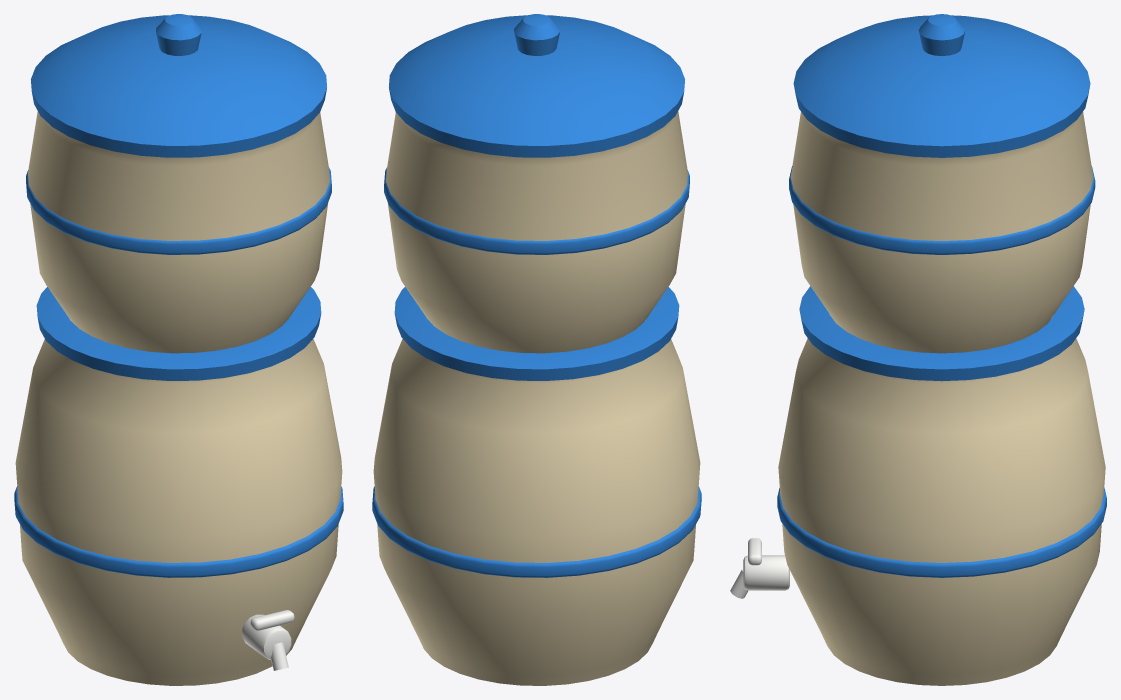
File: filtro_barro_creme.glb
3 views of the same model, side by side, from view 1: azimuth 30°, elevation 25°; view 2: azimuth 150°, elevation 25°; view 3: azimuth 270°, elevation 25° (orthographic).
Visible parts, largest first — view 1: filtro_barro_creme; view 2: filtro_barro_creme; view 3: filtro_barro_creme.
Boxes of the visible parts, left/top/right/bottom form: filtro_barro_creme: left=14, top=14, right=343, bottom=685; filtro_barro_creme: left=372, top=14, right=701, bottom=685; filtro_barro_creme: left=730, top=14, right=1106, bottom=685.
Size of the model in its own units: 0.282 by 0.584 by 0.3223.
Materials: 1 (1 with a texture image).
